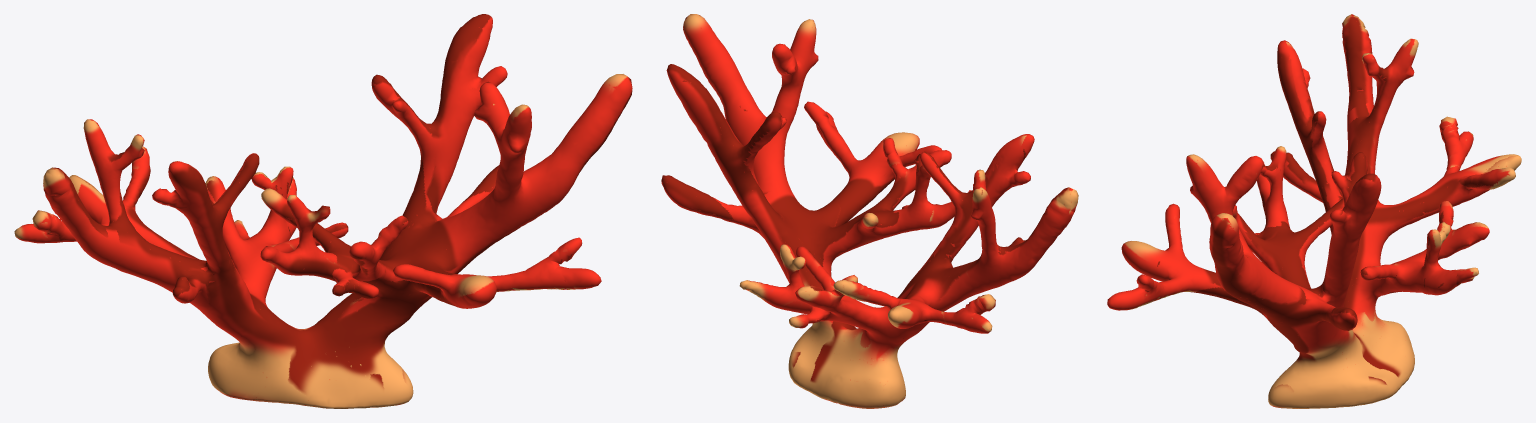
The model's file is corallo_cornuto.fbx.
3 views of the same model, side by side, from view 1: azimuth 30°, elevation 25°; view 2: azimuth 150°, elevation 25°; view 3: azimuth 270°, elevation 25° (orthographic). The views are drawn at different scales.
Visible parts, largest first — view 1: Corallo_cornuto; view 2: Corallo_cornuto; view 3: Corallo_cornuto.
Part boxes in pixels (x1,y1,x2,y2): Corallo_cornuto: (14,14,632,408); Corallo_cornuto: (661,14,1078,408); Corallo_cornuto: (1107,14,1521,408).
Bounding box in the file's own units: 18539 × 10850 × 14140.
